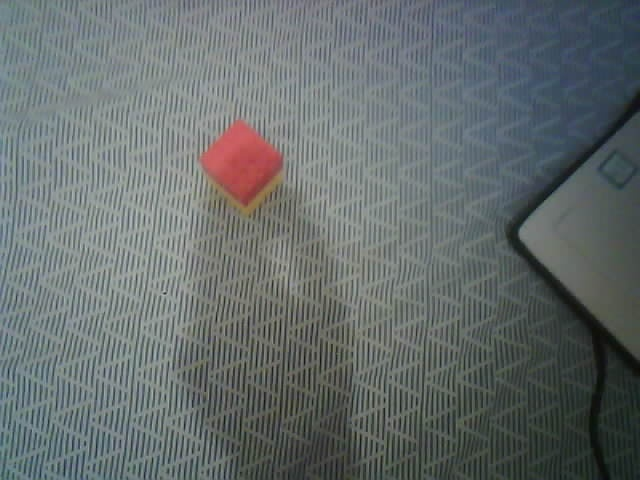lego: (197, 118, 285, 217)
